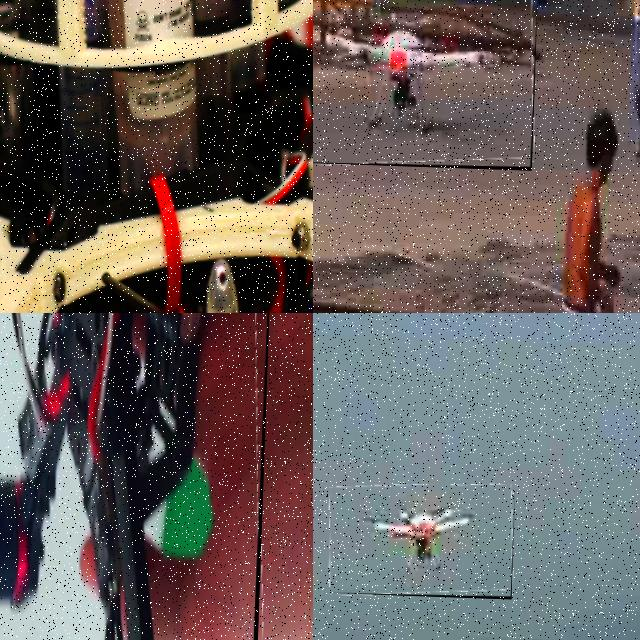drone: (0, 0, 313, 313), (0, 313, 277, 640), (313, 0, 537, 170), (327, 481, 515, 598)
